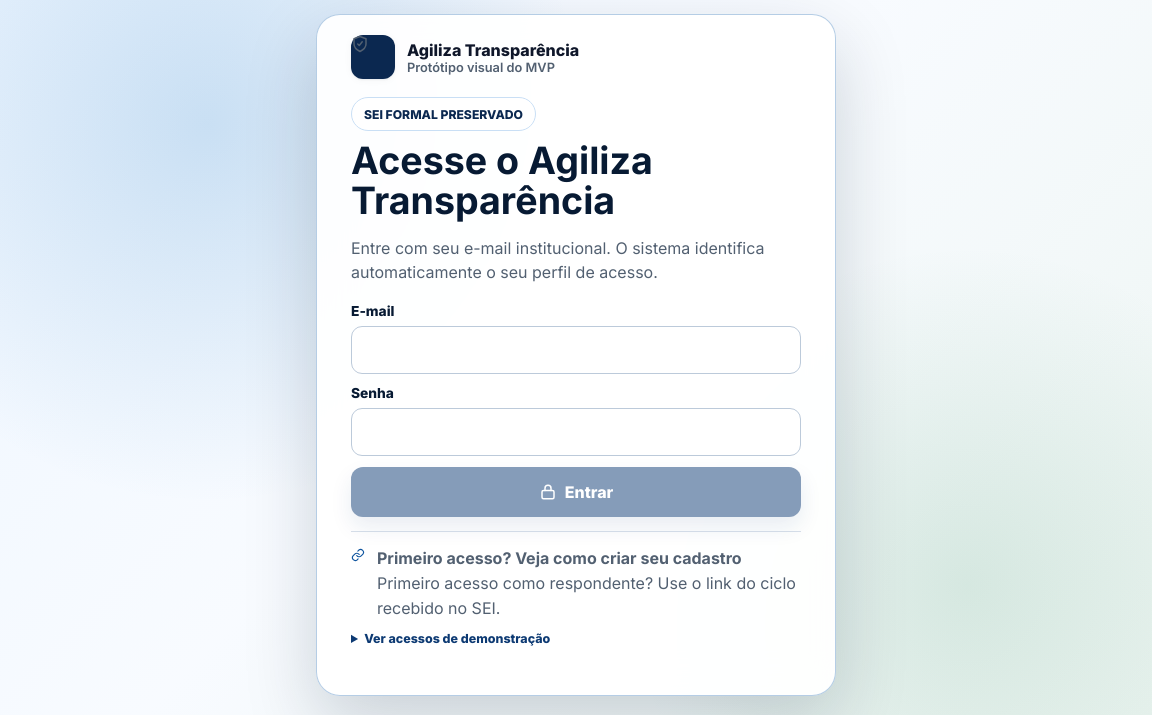
Test: Agiliza Transparência › especialista continua validando respostas recebidas das UGs
Type "especialista@stc.ma.gov.br" into the field labelled "E-mail" at (576, 350), box [351,326,801,374]
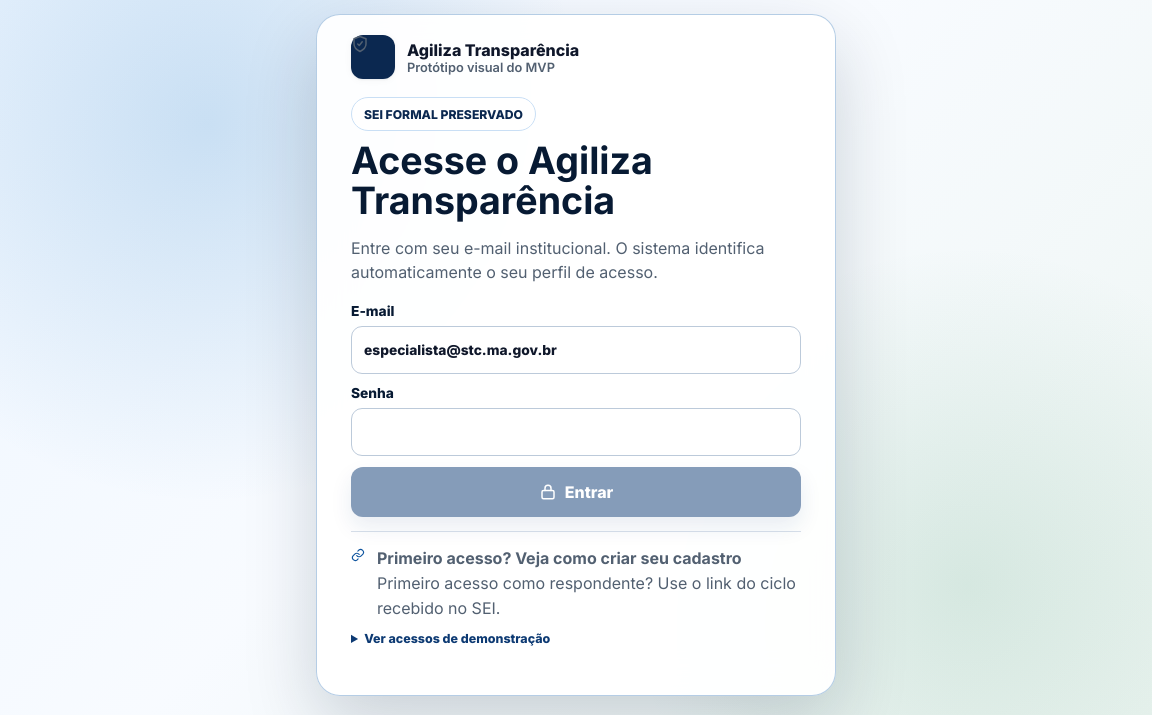
Type "senha-simulada" into the password field labelled "Senha" at (576, 432), box [351,408,801,456]
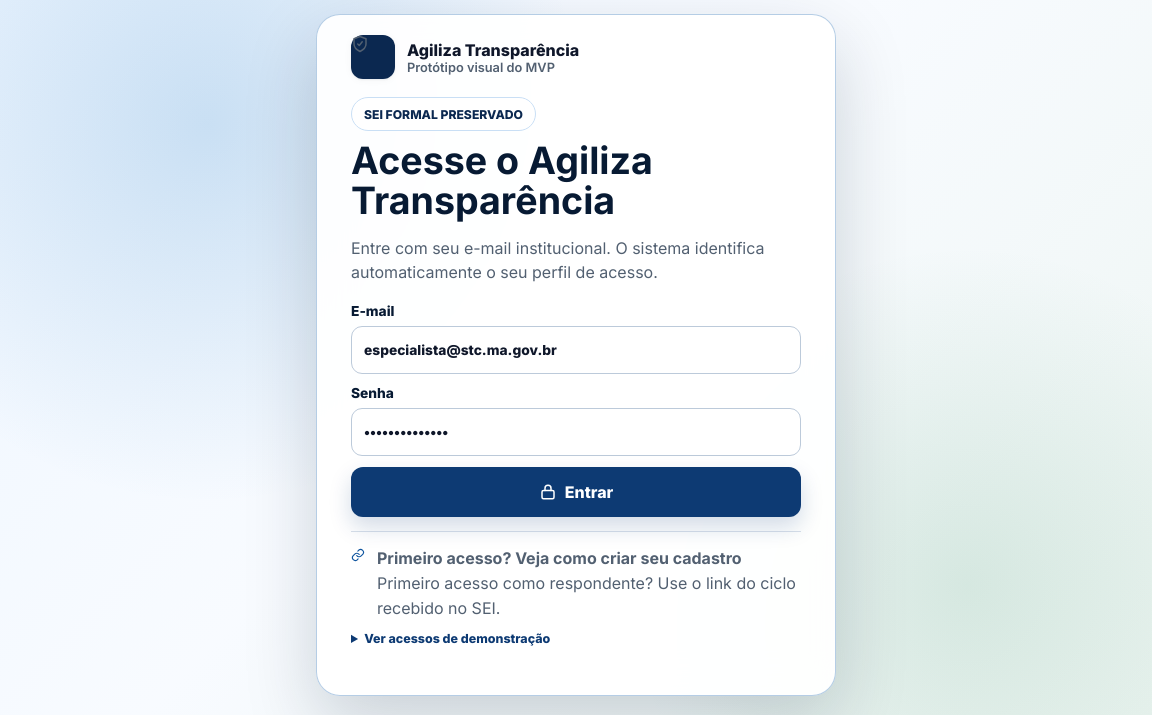
Click the button "Entrar" at (576, 492), box [351,467,801,517]
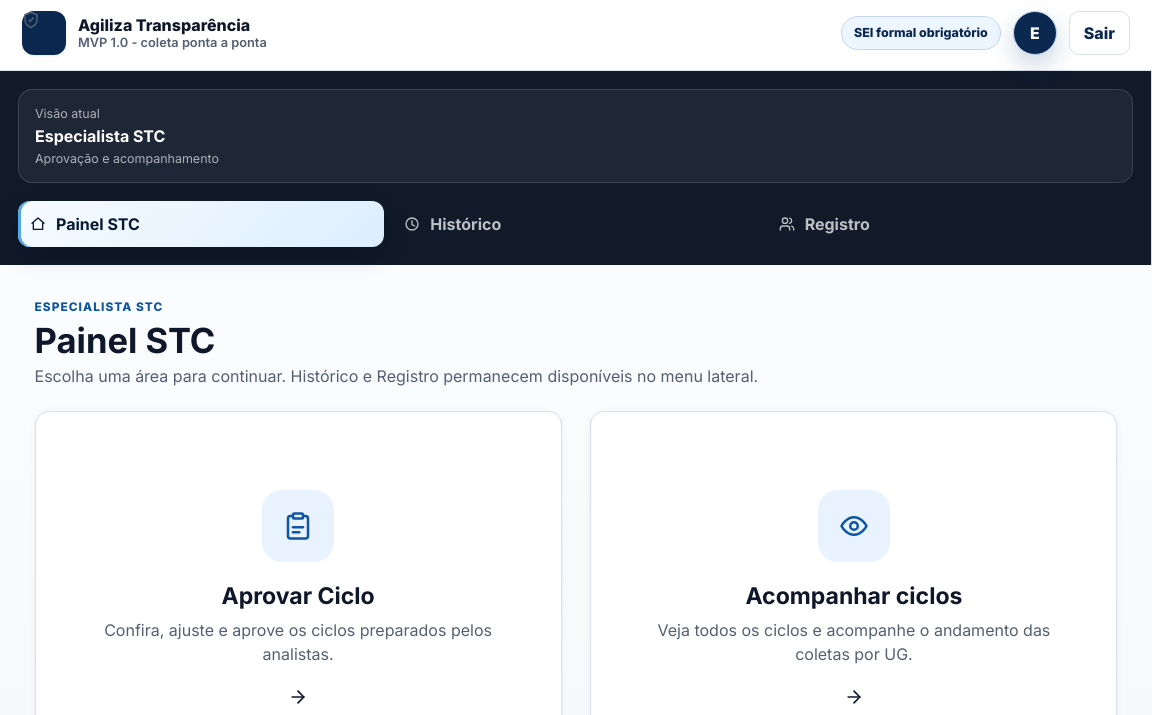
Click the button "Painel STC" at (98, 224), box [18,201,384,247]
(page scrolled)
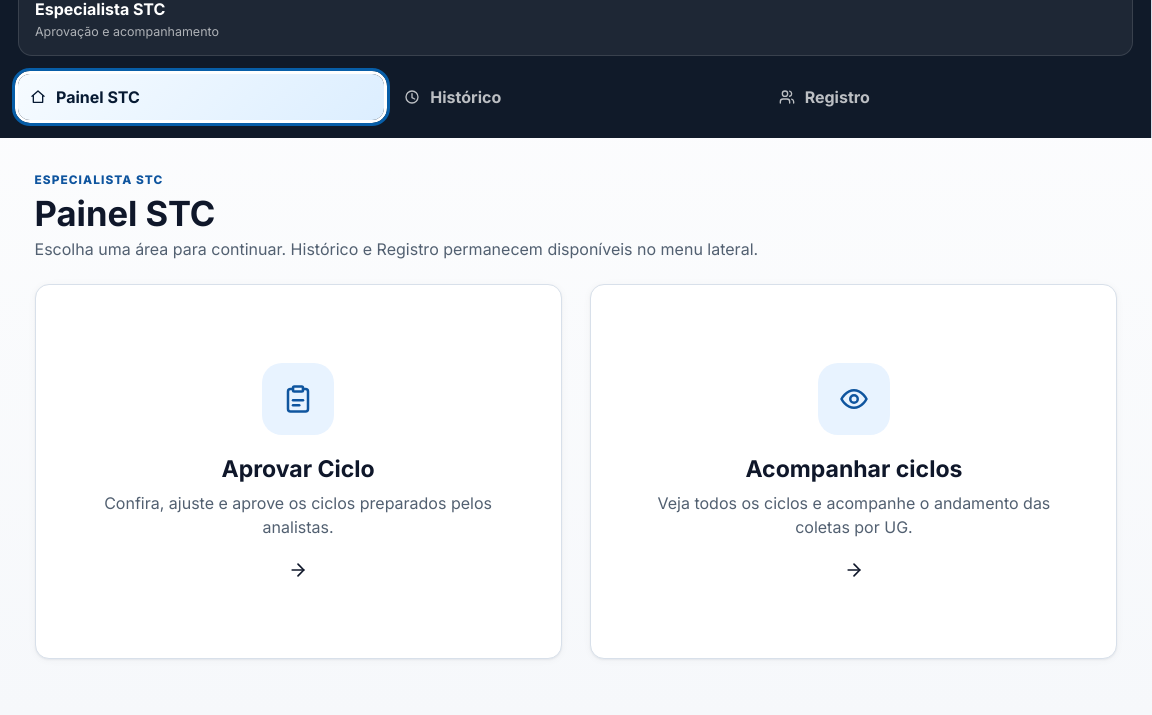
Click the button "Acompanhar ciclos" at (854, 471), box [590,284,1118,658]
(page scrolled)
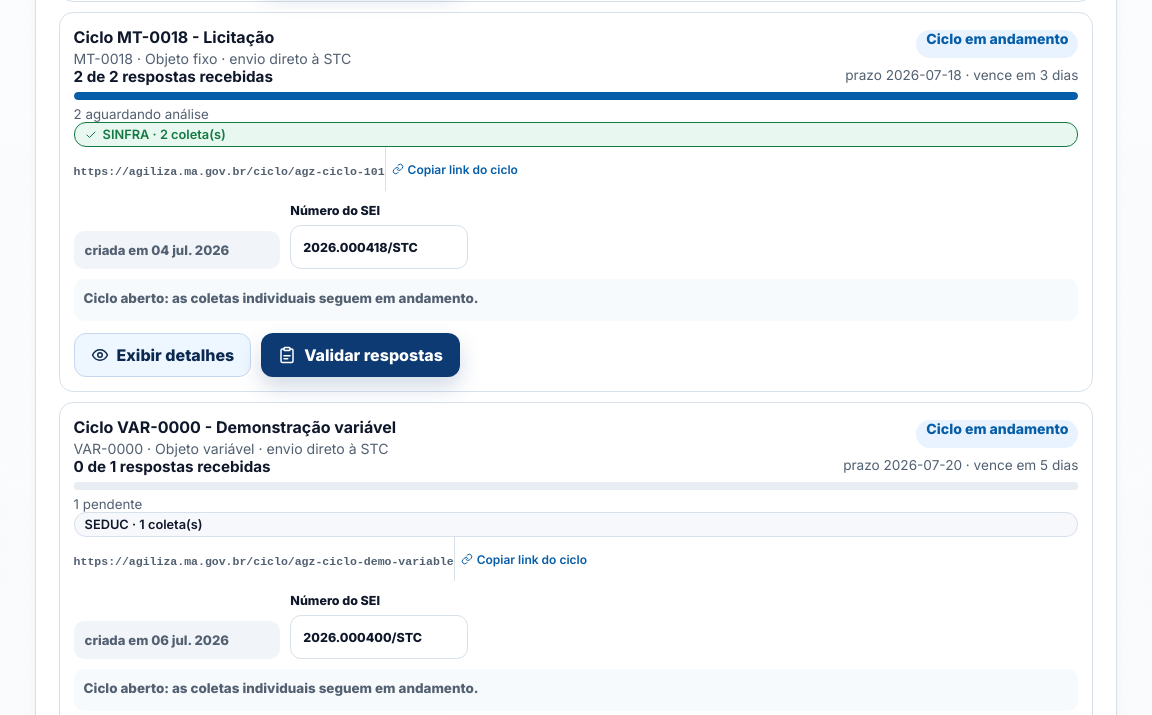
Expected: the text "Ciclo MT-0018 - Licitação" is shown, [74,27,274,47]
Click the button "Validar respostas" at (361, 355), box [261,333,460,377]
(page scrolled)
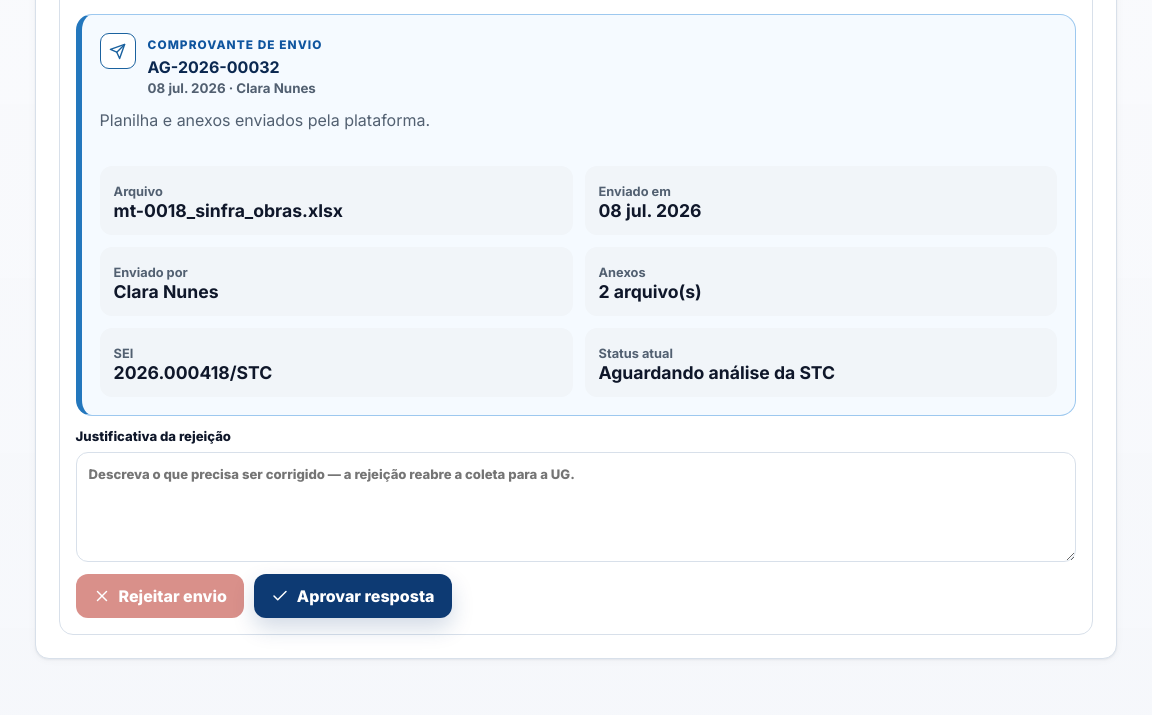
Expected: the button "Aprovar resposta" is shown, [254,574,452,618]
